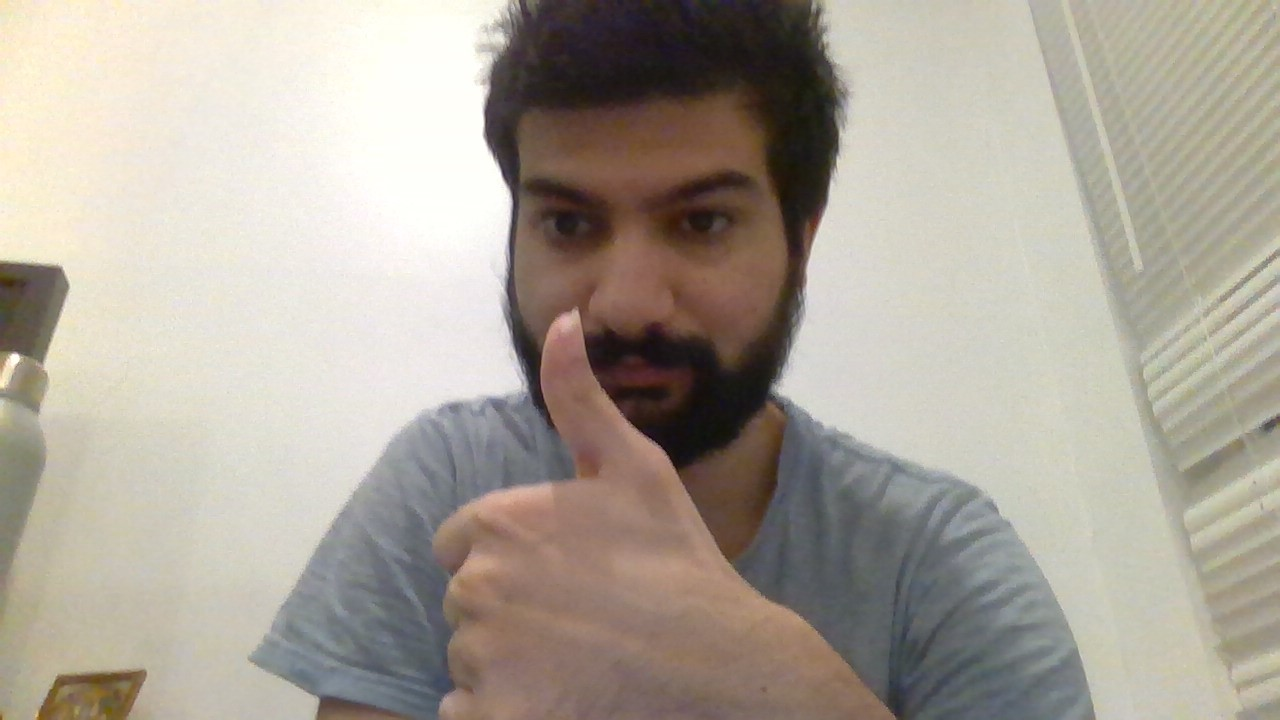up: (426, 303, 712, 720)
